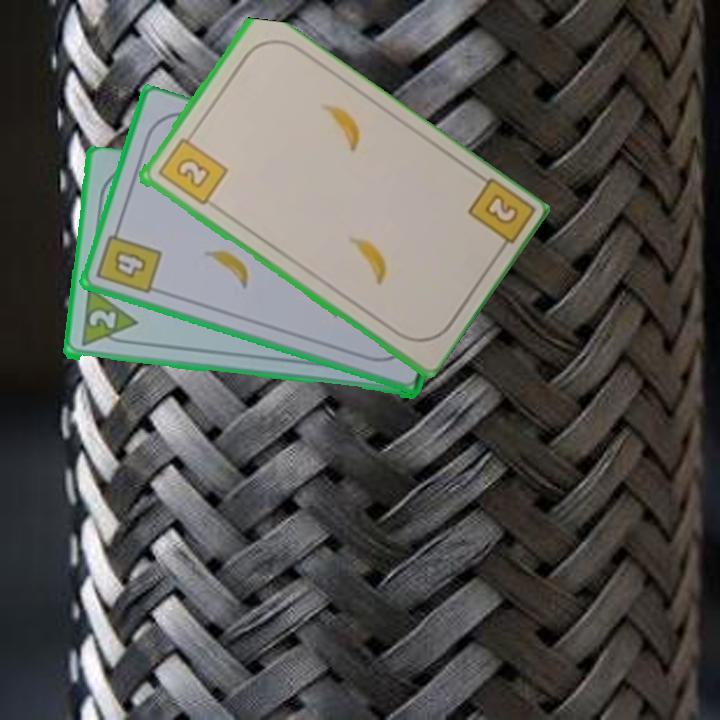2b: (154, 128, 230, 209), (463, 174, 534, 260)
2p: (85, 306, 119, 333)
4b: (93, 222, 165, 298)
